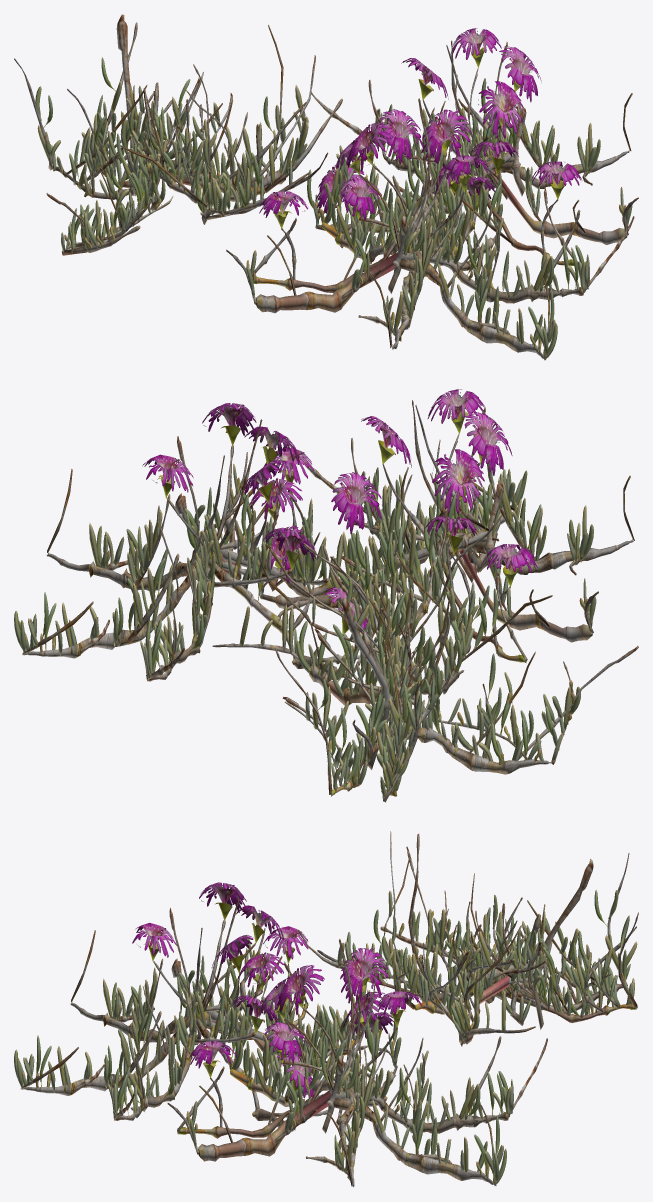
Rendered from leipoldtia_schultzei_clump.fbx.
3 renders of one model, top to bottom at view 1: azimuth 30°, elevation 25°; view 2: azimuth 150°, elevation 25°; view 3: azimuth 270°, elevation 25°, orthographic. The views are drawn at different scales.
Parts seen in each view (by area): view 1: leipoldtia_schultzei_clump; view 2: leipoldtia_schultzei_clump; view 3: leipoldtia_schultzei_clump.
Part boxes in pixels (left/top/right/bottom): leipoldtia_schultzei_clump: left=14, top=14, right=638, bottom=360; leipoldtia_schultzei_clump: left=14, top=389, right=638, bottom=802; leipoldtia_schultzei_clump: left=14, top=831, right=638, bottom=1187.
Size of the model in its own units: 0.85 by 0.2855 by 0.8378.
1 material, 1 textured.
